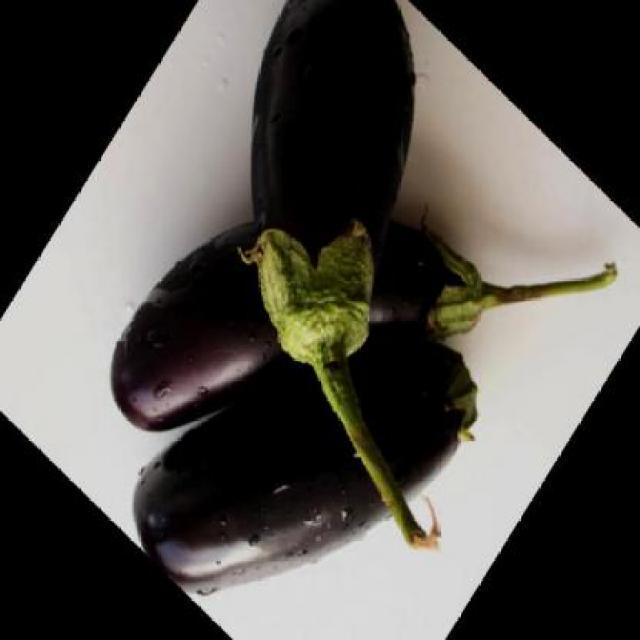eggplant: (87, 0, 620, 638), (117, 0, 628, 557), (110, 202, 504, 638)
